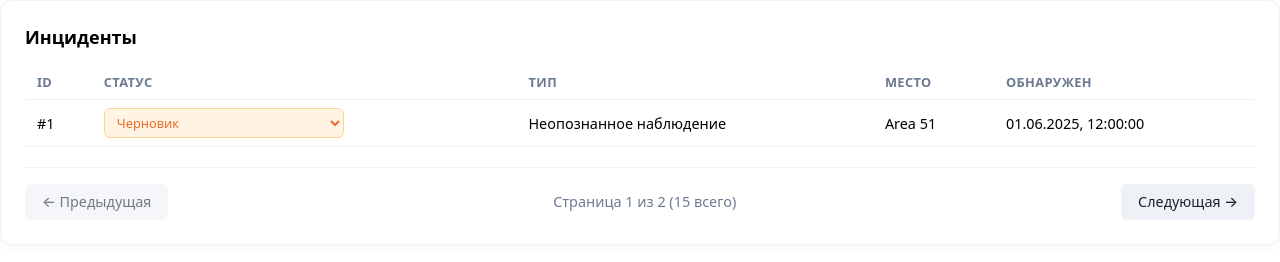
IncidentsTab › paginates incidents
Expected: the text "Area 51" is shown, [873,100,994,147]
Click the button "Следующая →" at (1188, 202), box [1121,184,1255,220]
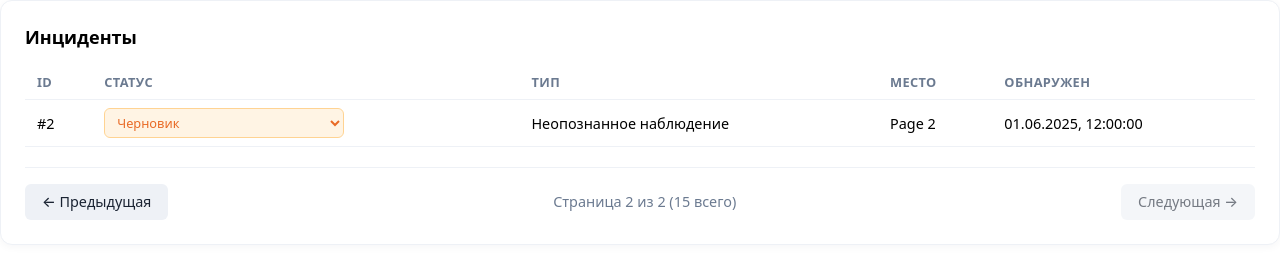
Expected: the text "Page 2" is shown, [878,100,992,147]
